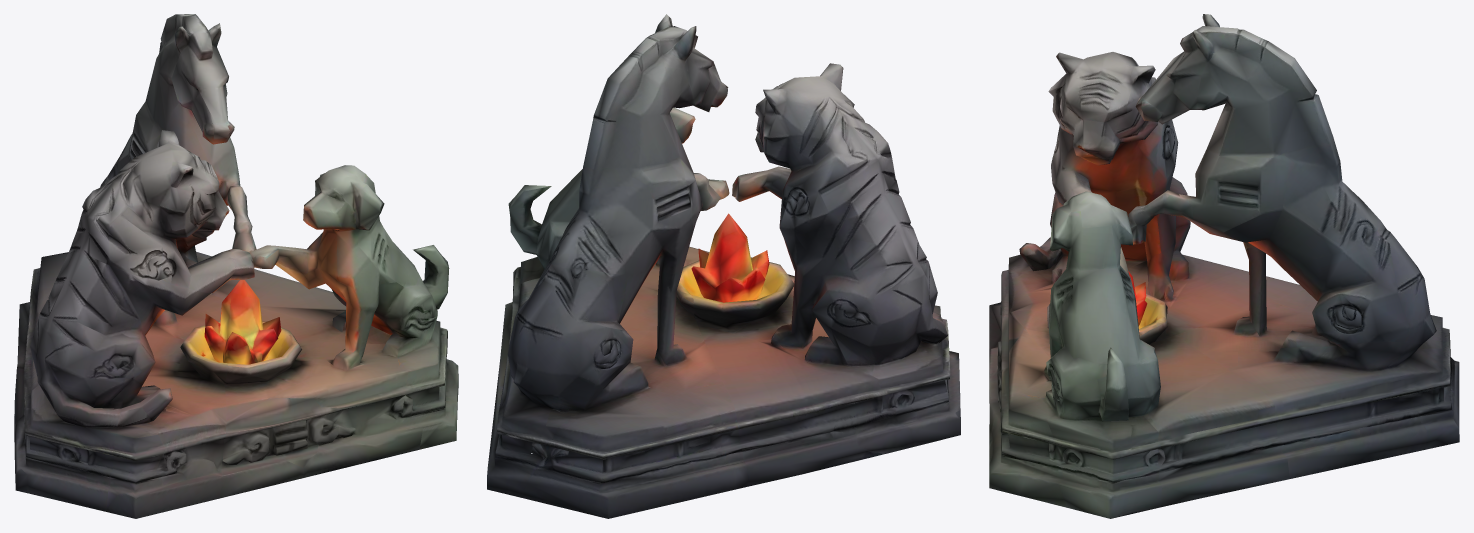
Rendered from sanhe_fire.glb.
The picture shows the model from 3 angles, left to right: view 1: azimuth 30°, elevation 25°; view 2: azimuth 150°, elevation 25°; view 3: azimuth 270°, elevation 25°; orthographic projection. The views are drawn at different scales.
Parts seen in each view (by area): view 1: tripo_node_ef47ba26-109c-43b9-b09e-59ca838e06ef; view 2: tripo_node_ef47ba26-109c-43b9-b09e-59ca838e06ef; view 3: tripo_node_ef47ba26-109c-43b9-b09e-59ca838e06ef.
Part boxes in pixels (x1=…): tripo_node_ef47ba26-109c-43b9-b09e-59ca838e06ef: x1=14, y1=14, x2=458, y2=518; tripo_node_ef47ba26-109c-43b9-b09e-59ca838e06ef: x1=487, y1=14, x2=960, y2=518; tripo_node_ef47ba26-109c-43b9-b09e-59ca838e06ef: x1=989, y1=14, x2=1459, y2=518.
Bounding box in the file's own units: 0.9911 × 0.8094 × 0.8847.
1 material, 1 textured.
